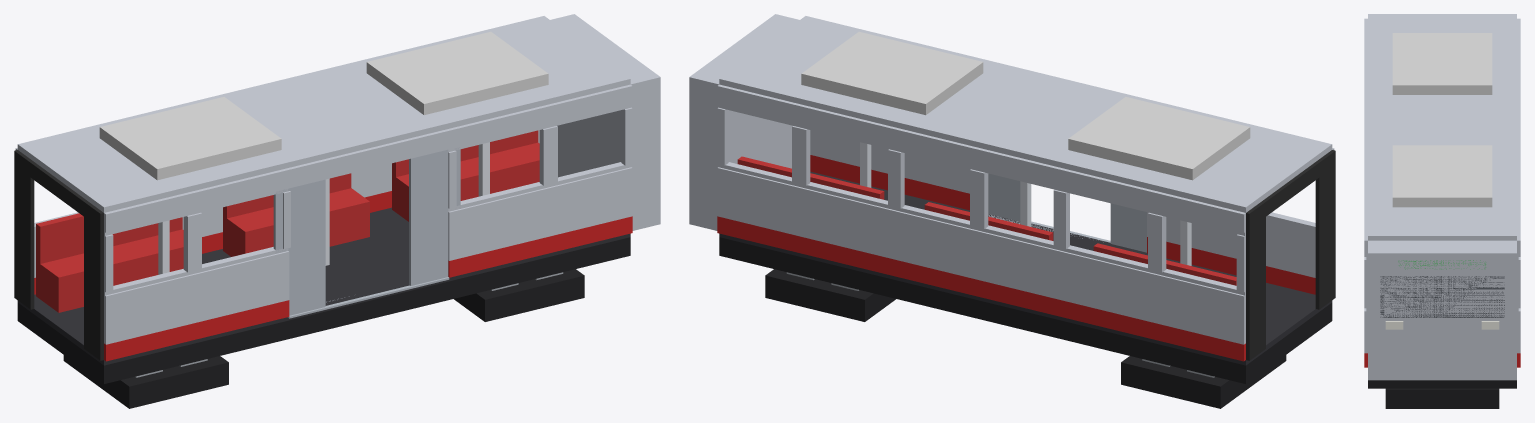
File: metro_wagon_lead_half_l3.obj
3 views of the same model, side by side, from view 1: azimuth 30°, elevation 25°; view 2: azimuth 150°, elevation 25°; view 3: azimuth 270°, elevation 25° (orthographic). The views are drawn at different scales.
Size of the model in its own units: 3.16 by 1.26 by 0.88.
